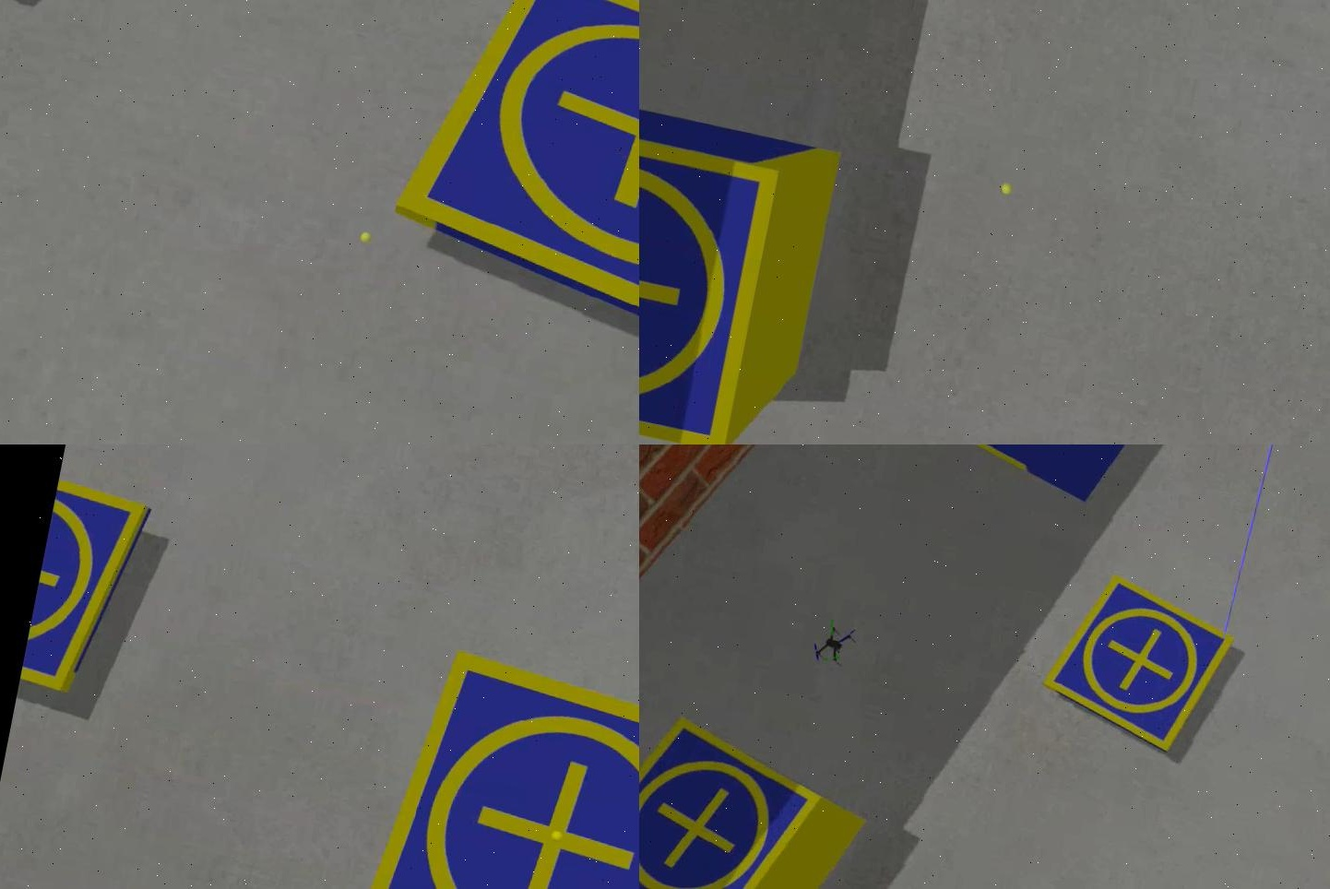large_base: (836, 445, 1179, 516)
small_base: (373, 1, 637, 391), (338, 645, 637, 889), (637, 109, 780, 445), (1033, 568, 1243, 762), (637, 705, 828, 889), (17, 476, 153, 709)
